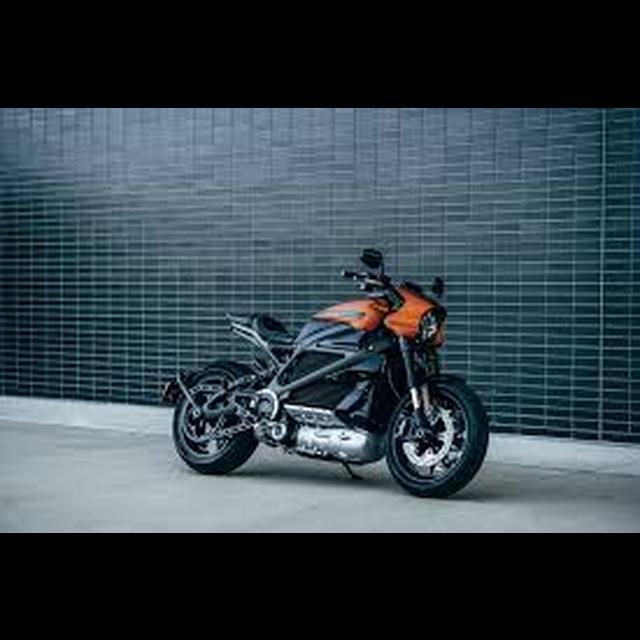motorcycle: (157, 245, 494, 503)
